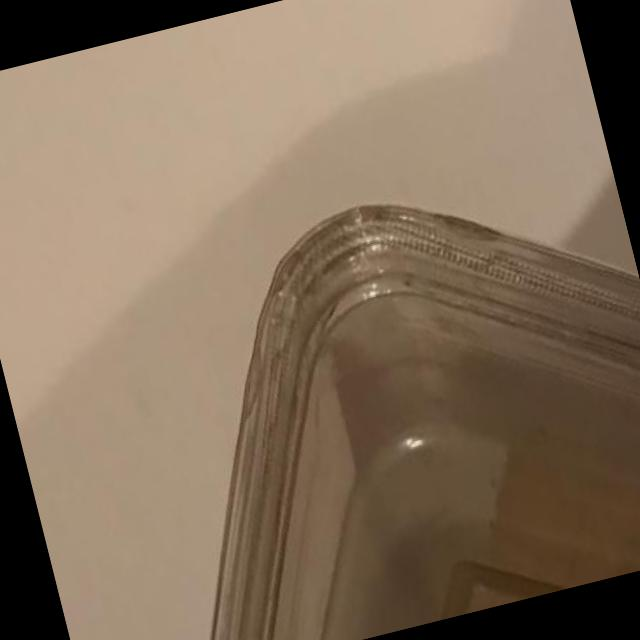Trash: (109, 131, 640, 640)
